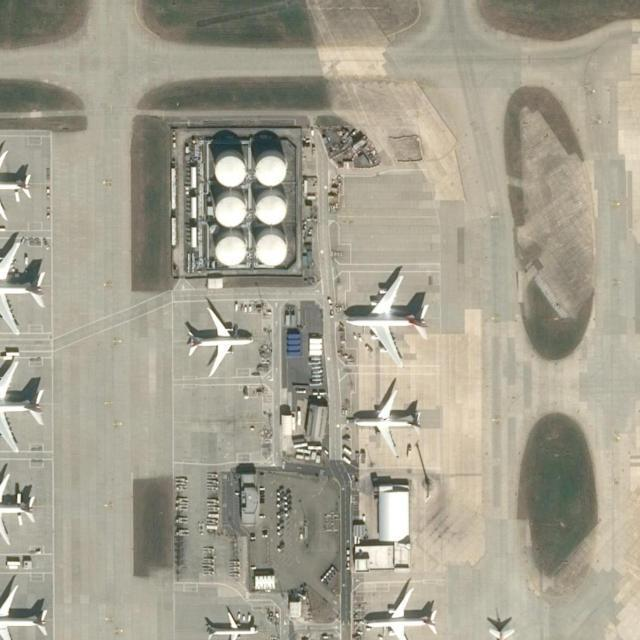Aircraft: (339, 269, 433, 367), (183, 301, 257, 378), (351, 383, 421, 454), (357, 587, 441, 640), (0, 239, 47, 332), (0, 359, 48, 448), (0, 579, 47, 640), (0, 469, 39, 542), (0, 146, 32, 218), (205, 610, 259, 640)
